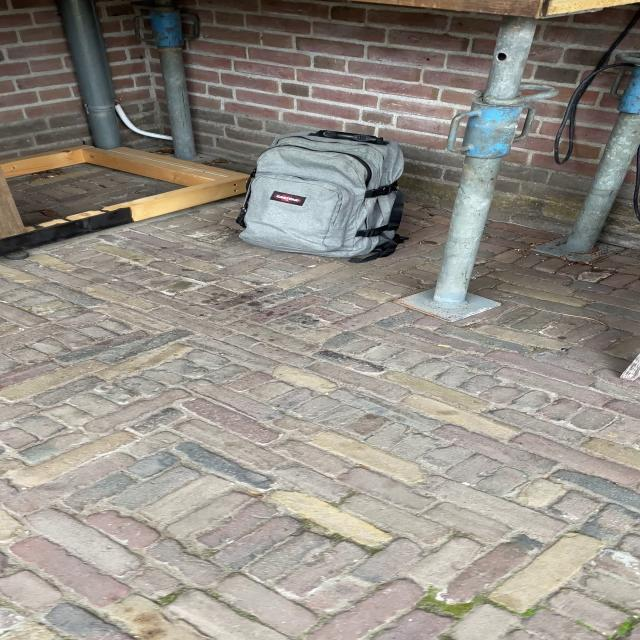backpack: (230, 124, 414, 262)
